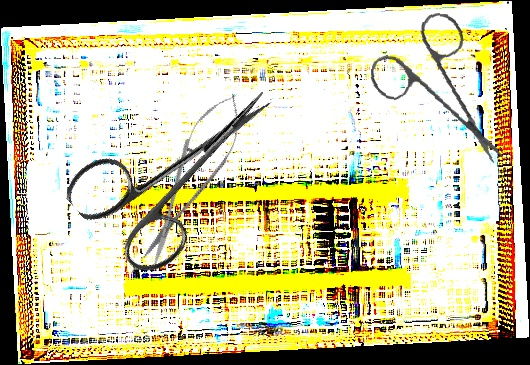Iris Scissors: (58, 46, 308, 287), (361, 5, 519, 165)
Micro Scissor: (127, 83, 256, 275)
